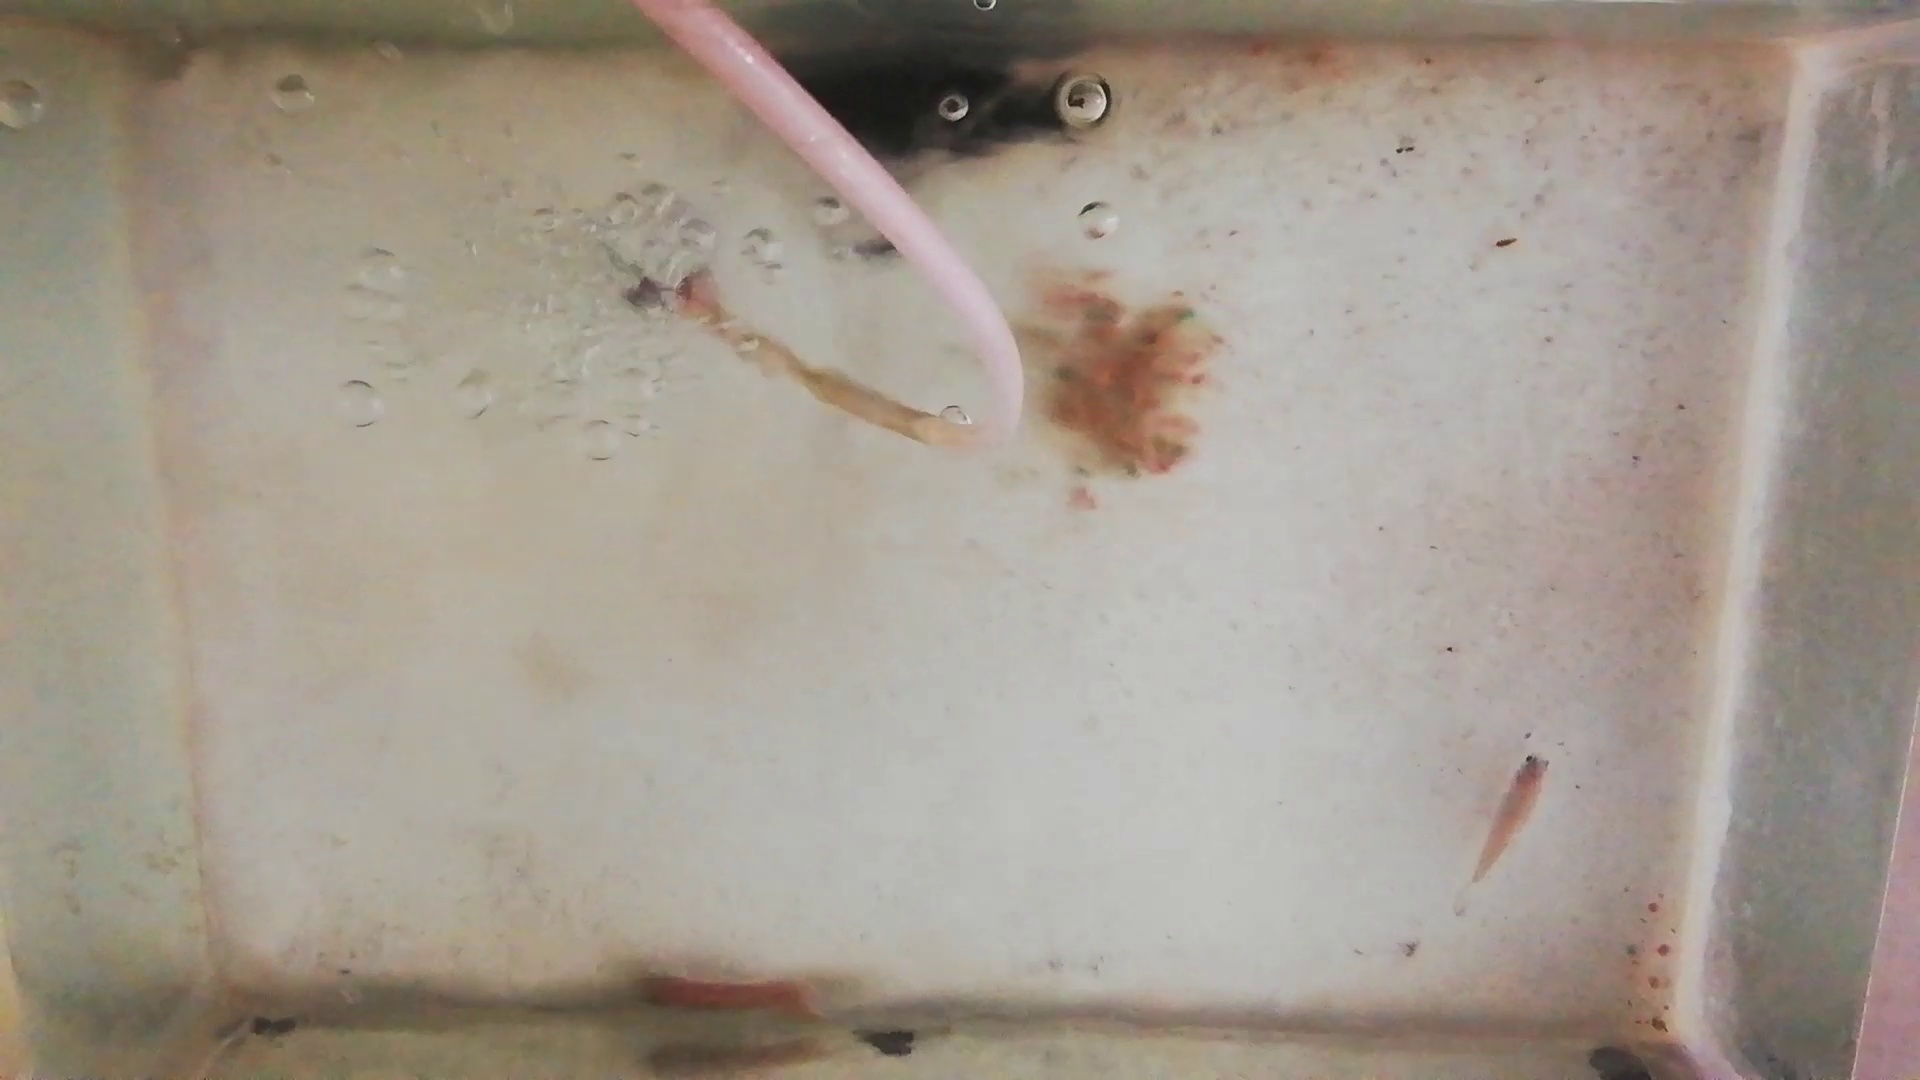fish: (1470, 752, 1551, 881), (626, 971, 810, 1021)
